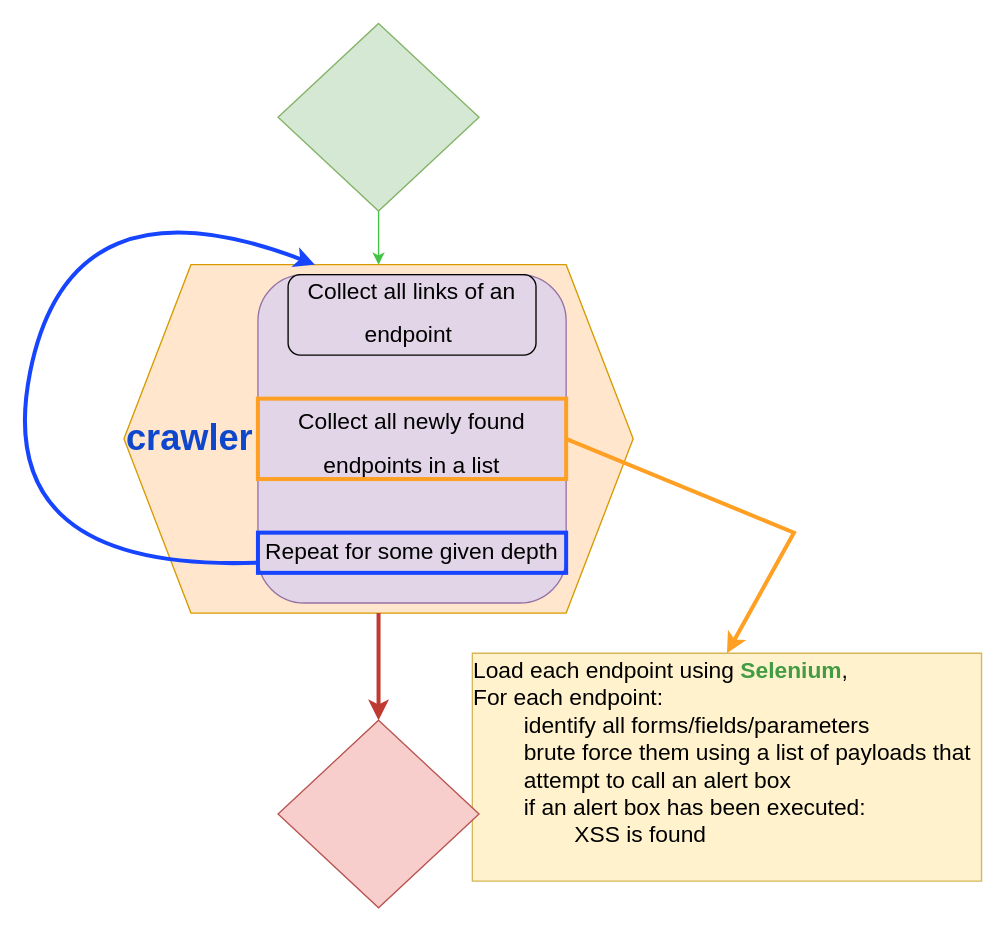
This 1005x931 diagram has some shape labels left out. The shapes that lost their labels are listed below. From the top down, each one's centre as x and y in pixels, then its label:
the point at 378,116: start of execuition
the point at 378,813: end of execution
